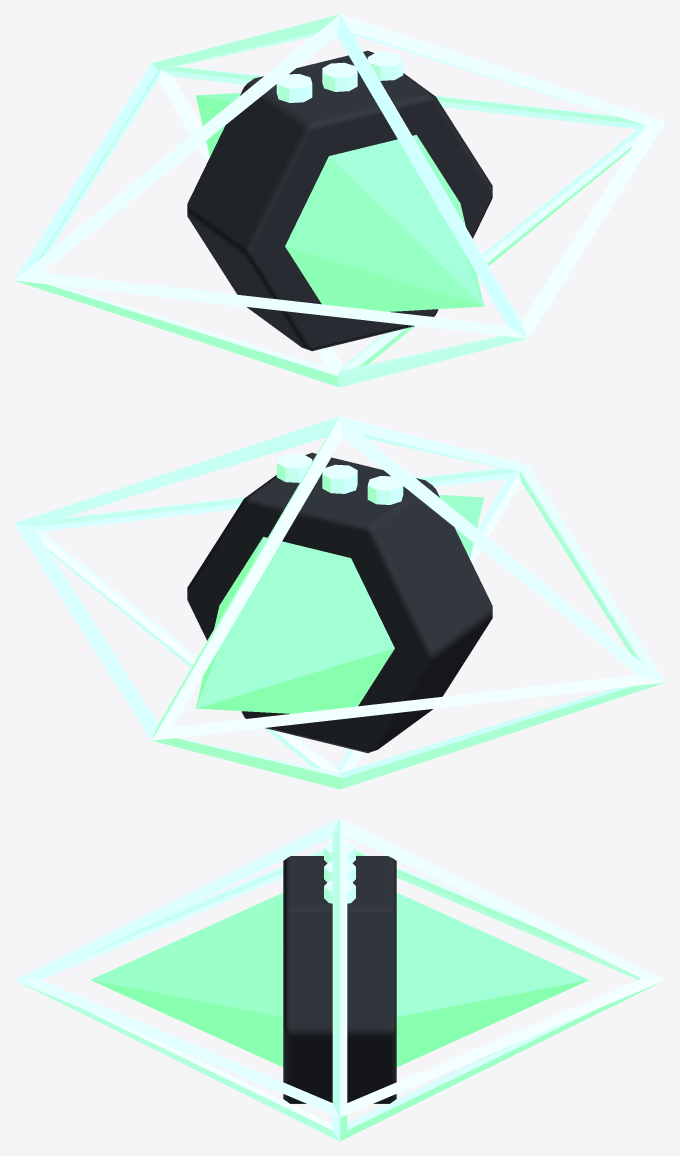
Rendered from pickup_spread.glb.
The picture shows the model from 3 angles, top to bottom: view 1: azimuth 30°, elevation 25°; view 2: azimuth 150°, elevation 25°; view 3: azimuth 270°, elevation 25°; orthographic projection. The views are drawn at different scales.
Visible parts, largest first — view 1: spread_cage, spread_recorder, spread_crystal, spread_dots; view 2: spread_cage, spread_recorder, spread_crystal, spread_dots; view 3: spread_crystal, spread_cage, spread_recorder, spread_dots.
Boxes of the visible parts, x1=… form: spread_cage: x1=14, y1=14, x2=665, y2=387; spread_recorder: x1=187, y1=50, x2=492, y2=351; spread_crystal: x1=195, y1=93, x2=484, y2=311; spread_dots: x1=276, y1=51, x2=403, y2=102; spread_cage: x1=14, y1=416, x2=665, y2=789; spread_recorder: x1=187, y1=452, x2=492, y2=753; spread_crystal: x1=195, y1=495, x2=484, y2=713; spread_dots: x1=276, y1=453, x2=403, y2=504; spread_crystal: x1=90, y1=893, x2=589, y2=1066; spread_cage: x1=14, y1=818, x2=665, y2=1141; spread_recorder: x1=283, y1=856, x2=396, y2=1103; spread_dots: x1=324, y1=842, x2=355, y2=903.
Size of the model in its own units: 2.87 by 1.57 by 2.87.
